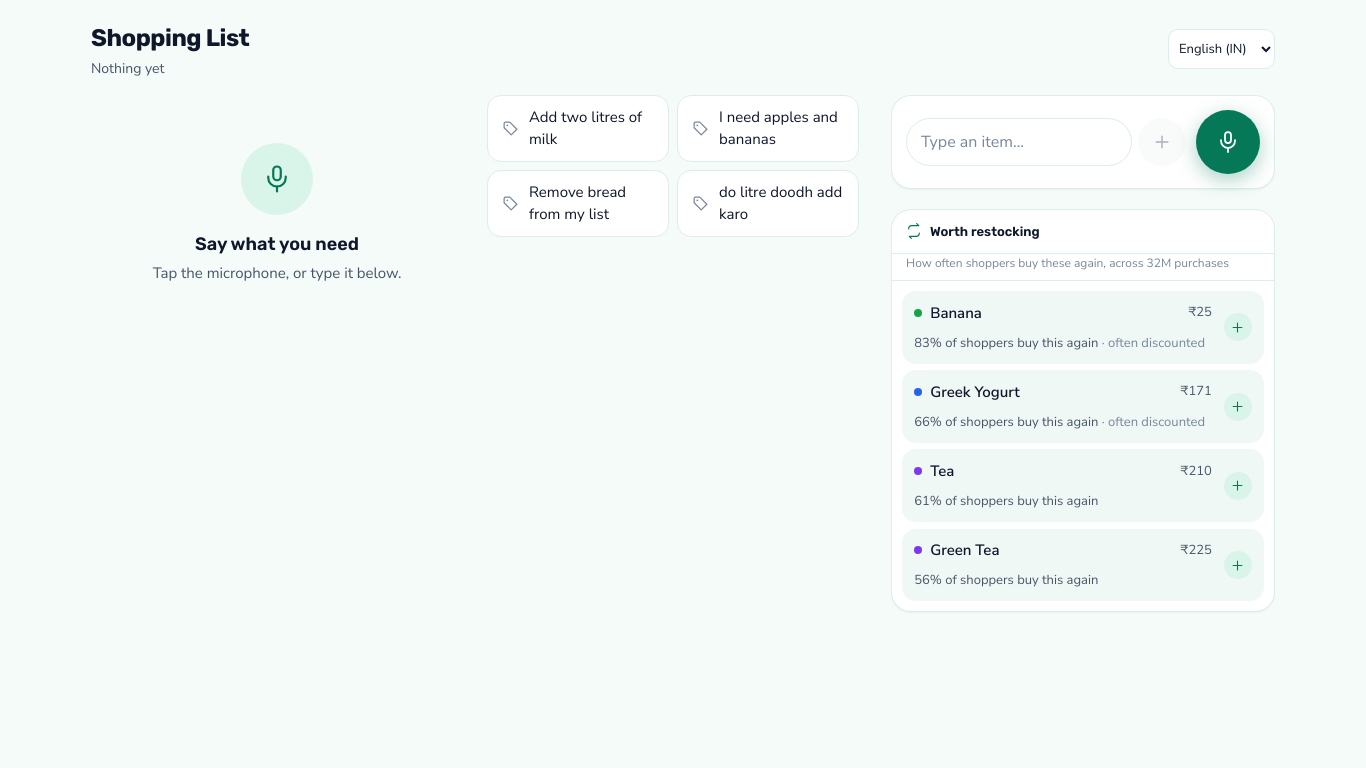
Test: voice input › groups items under their derived category
Click the button named "Start listening": (1228, 142) [1196,110,1260,174]
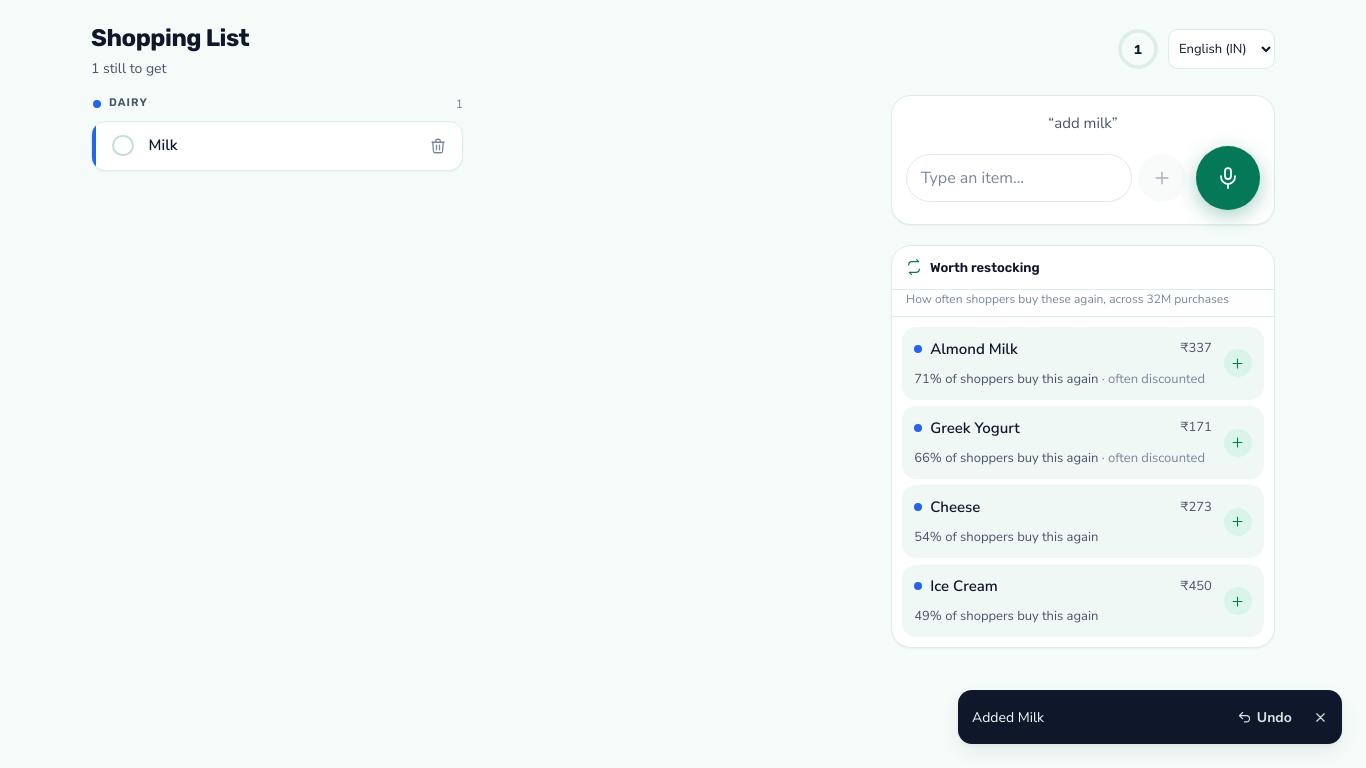
Result: the heading "Dairy" is shown at [109,95,148,112]
